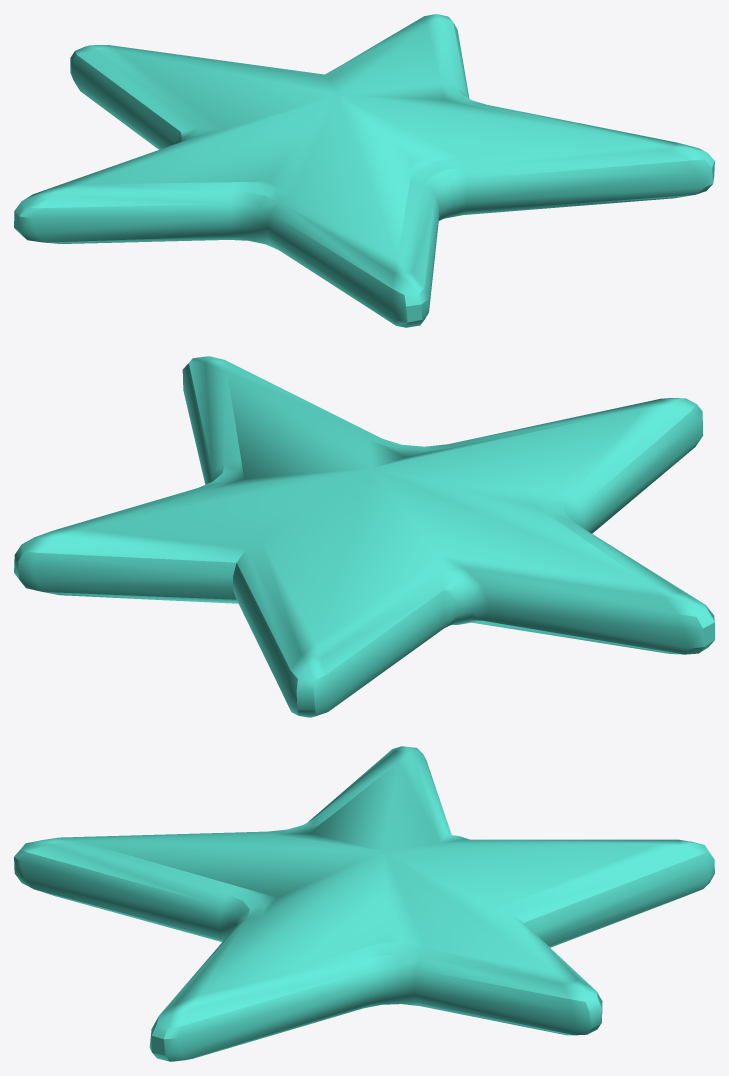
The model's file is zvezda4.fbx.
3 renders of one model, top to bottom at view 1: azimuth 30°, elevation 25°; view 2: azimuth 150°, elevation 25°; view 3: azimuth 270°, elevation 25°, orthographic. The views are drawn at different scales.
Parts seen in each view (by area): view 1: zvezda4; view 2: zvezda4; view 3: zvezda4.
Boxes of the visible parts, left/top/right/bottom form: zvezda4: left=14, top=14, right=714, bottom=327; zvezda4: left=14, top=356, right=714, bottom=717; zvezda4: left=14, top=746, right=714, bottom=1061.
Size of the model in its own units: 38.83 by 7.89 by 39.93.
